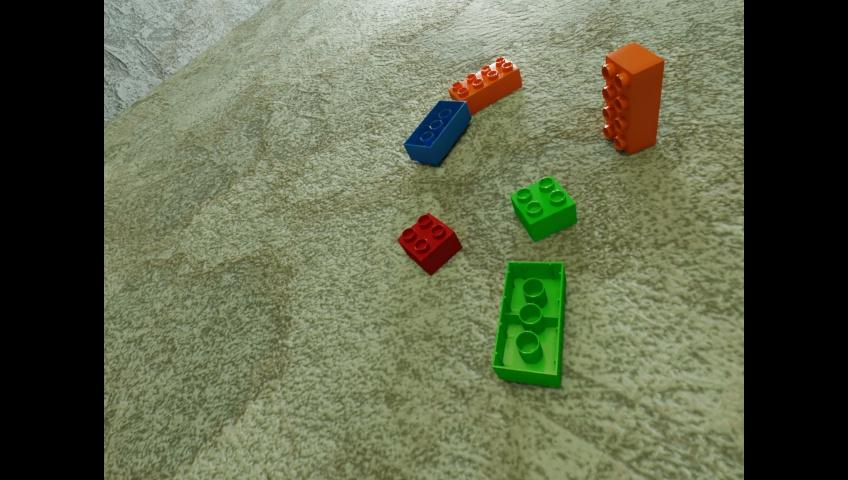2x2_green: (510, 175, 576, 241)
2x2_red: (396, 212, 461, 275)
4x2_blue: (403, 99, 470, 164)
4x2_green: (491, 261, 565, 387)
4x2_orange: (601, 41, 664, 154), (448, 56, 521, 114)
